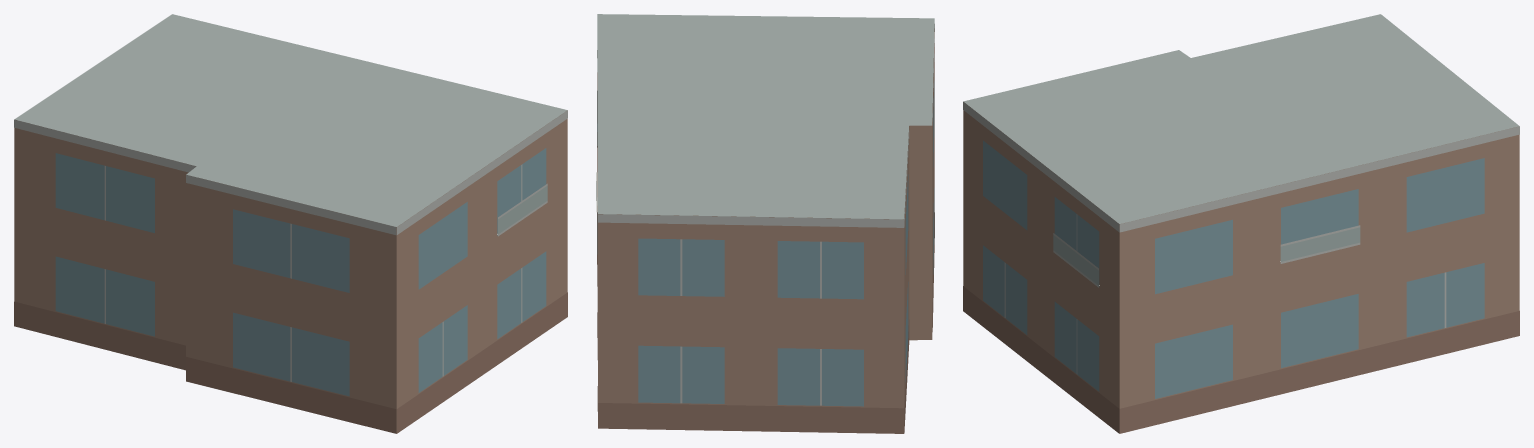
File: survey-upis-32756092.glb
3 views of the same model, side by side, from view 1: azimuth 30°, elevation 25°; view 2: azimuth 150°, elevation 25°; view 3: azimuth 270°, elevation 25° (orthographic). The views are drawn at different scales.
Parts seen in each view (by area): view 1: survey-upis-32756092.tmp; view 2: survey-upis-32756092.tmp; view 3: survey-upis-32756092.tmp.
Boxes of the visible parts, x1,y1,x2,y2 form: survey-upis-32756092.tmp: (14, 14, 567, 433); survey-upis-32756092.tmp: (596, 14, 934, 433); survey-upis-32756092.tmp: (963, 14, 1519, 433).
Bounding box in the file's own units: 13.12 × 6.1 × 14.69.
